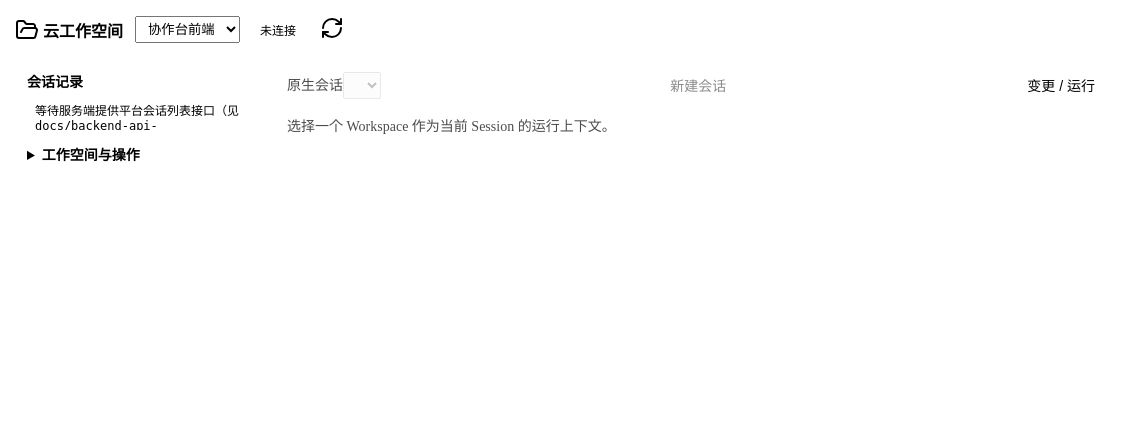
Test: CloudWorkspacesView › issues a controlled web app preview URL from the Preview pane
Click the button with aria-label "打开变更与运行面板" at point(1061, 85), box [1015,71,1107,99]
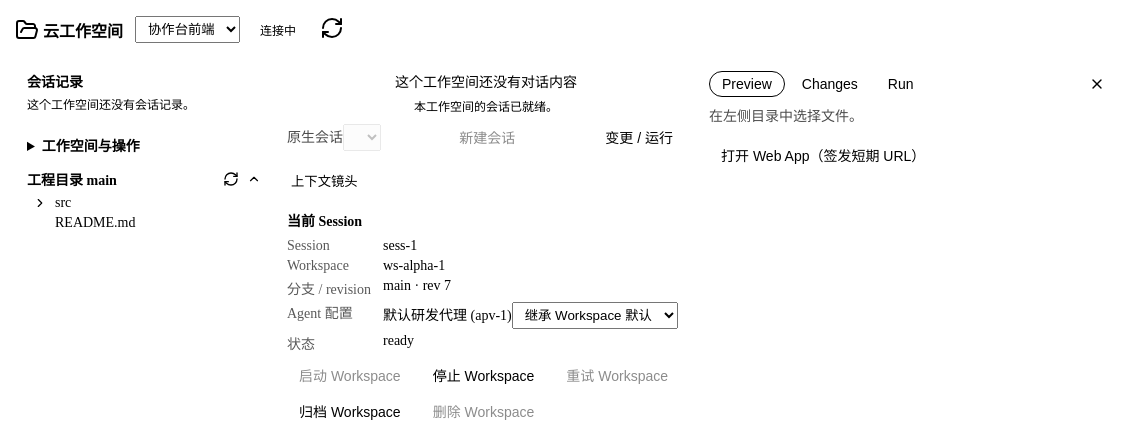
expect the button "打开 Web App（签发短期 URL）" is shown: met
expect the button "打开 Web App（签发短期 URL）" is enabled: met
Click the button "打开 Web App（签发短期 URL）" at point(823, 155), box [709,141,937,169]
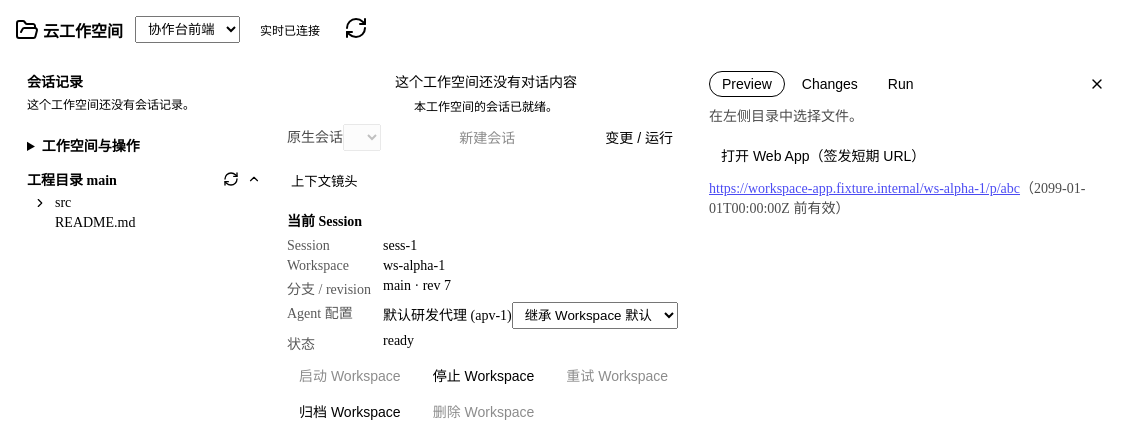
expect the link "https://workspace-app.fixture.internal/ws-alpha-1/p/abc" is shown: met, box [709,181,1020,196]
